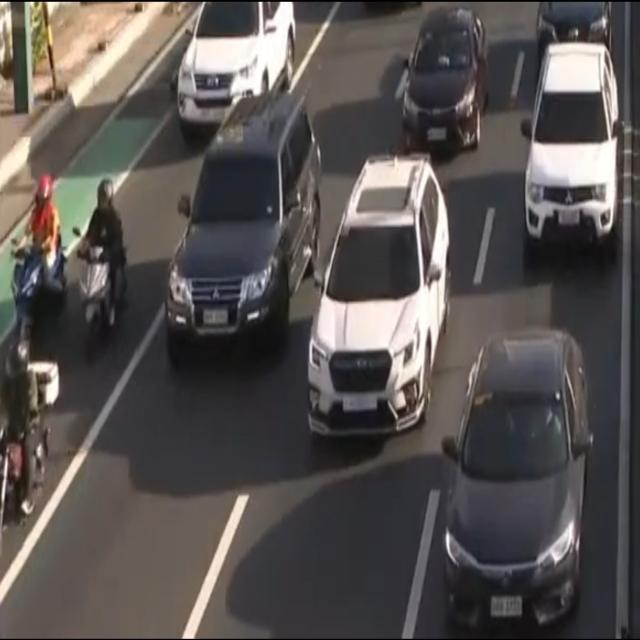Motorcycle: (0, 340, 54, 532), (16, 172, 68, 349), (82, 170, 128, 359)
SUV: (164, 98, 320, 374), (309, 160, 449, 429), (524, 49, 624, 249), (177, 0, 301, 129)
Sedan: (444, 332, 591, 640), (400, 7, 489, 157)
